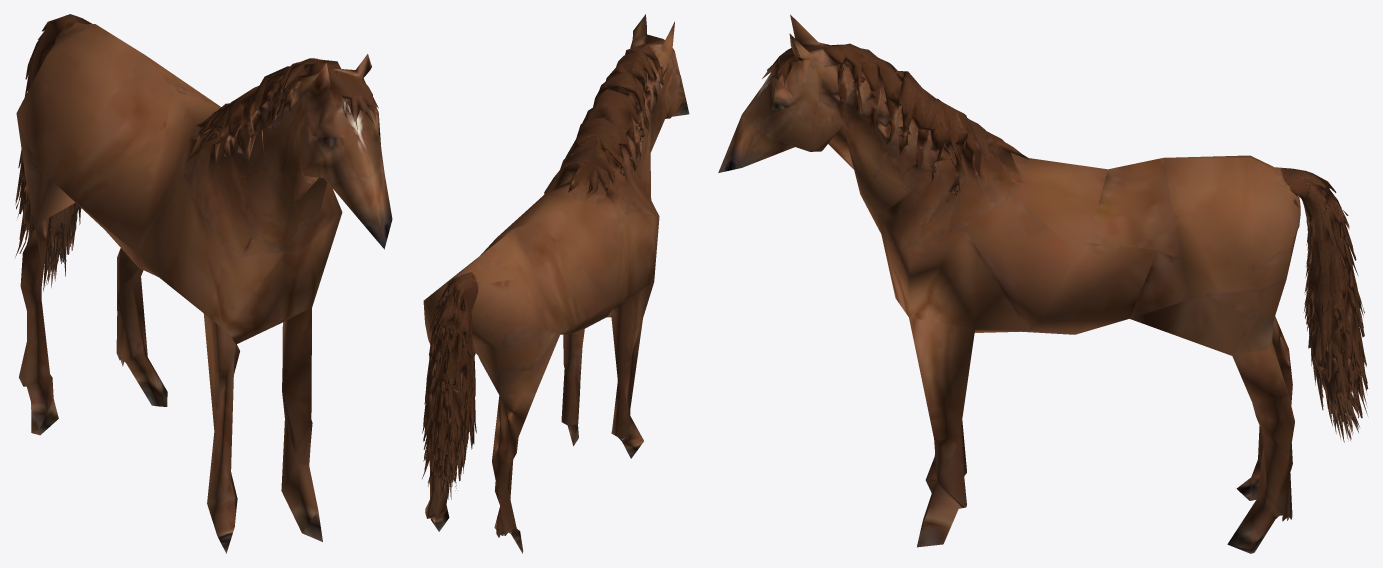
The model's file is caballo.glb.
3 renders of one model, left to right at view 1: azimuth 30°, elevation 25°; view 2: azimuth 150°, elevation 25°; view 3: azimuth 270°, elevation 25°, orthographic. The views are drawn at different scales.
Size of the model in its own units: 0.5129 by 1.61 by 1.88.
Materials: 1 (1 with a texture image).
